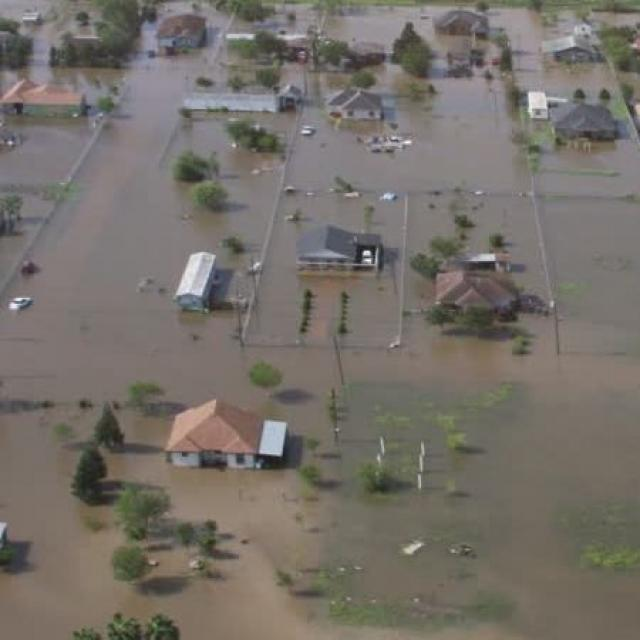flood: (0, 50, 640, 640), (491, 8, 626, 110), (327, 7, 465, 58), (0, 118, 90, 188)
house: (158, 397, 298, 466), (432, 260, 521, 315), (290, 225, 386, 275), (0, 79, 88, 120), (174, 245, 222, 316), (150, 8, 212, 61), (556, 101, 616, 142), (330, 86, 386, 124), (542, 32, 598, 64), (441, 7, 488, 36), (276, 80, 306, 110)
